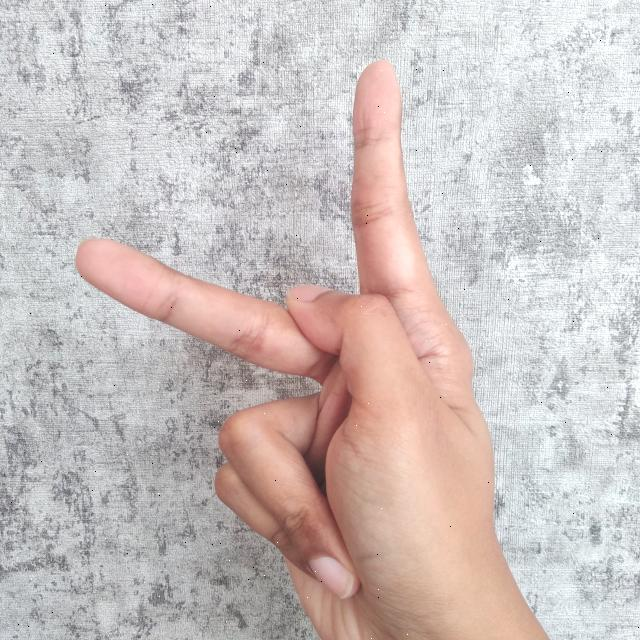K: (70, 52, 552, 640)
